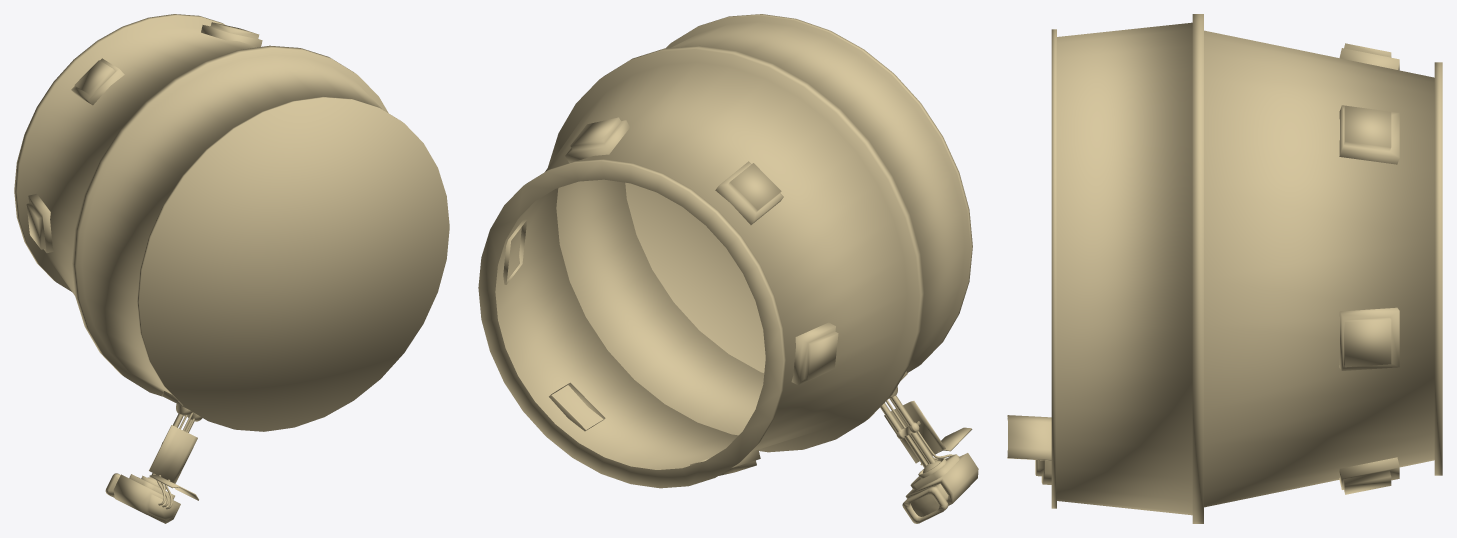
The model's file is Compartment of refueling components.fbx.
3 renders of one model, left to right at view 1: azimuth 30°, elevation 25°; view 2: azimuth 150°, elevation 25°; view 3: azimuth 270°, elevation 25°, orthographic. The views are drawn at different scales.
Parts seen in each view (by area): view 1: Compartment of refueling components; view 2: Compartment of refueling components; view 3: Compartment of refueling components.
Boxes of the visible parts, bbox=[...] form: Compartment of refueling components: bbox=[14, 14, 449, 523]; Compartment of refueling components: bbox=[478, 14, 978, 523]; Compartment of refueling components: bbox=[1007, 14, 1442, 523].
Size of the model in its own units: 246 by 286 by 210.
